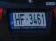1: (41, 12, 45, 25)
3: (29, 13, 34, 25)
4: (33, 13, 38, 25)
6: (37, 13, 41, 25)
F: (20, 13, 25, 25)
H: (15, 13, 20, 25)
